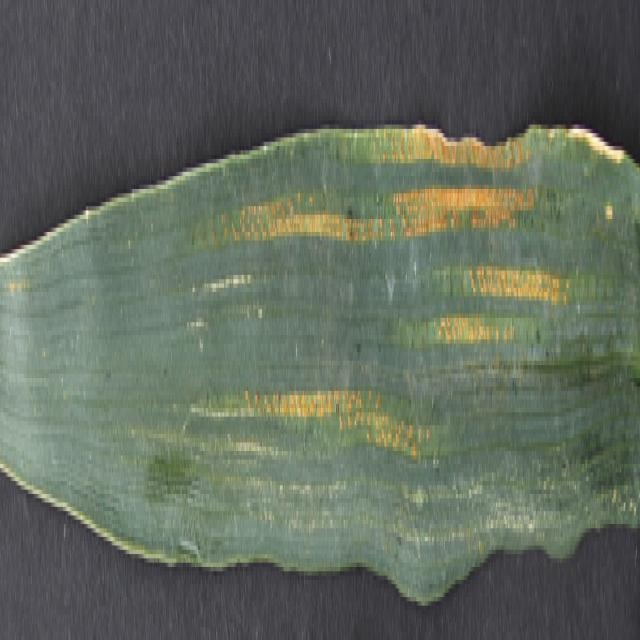leaf rust: (205, 142, 579, 468)
